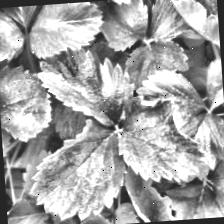Powdery Mildew Leaf: (23, 115, 131, 224)
